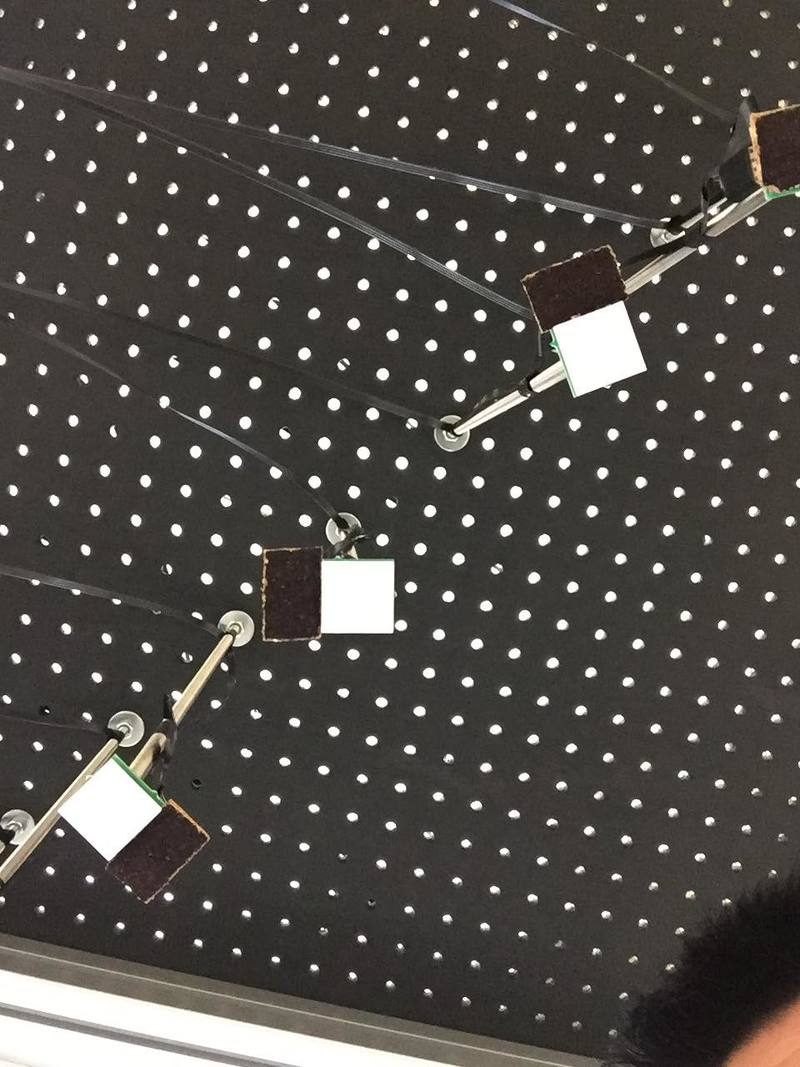target: (51, 763, 164, 864), (550, 292, 651, 402), (320, 563, 402, 638)
